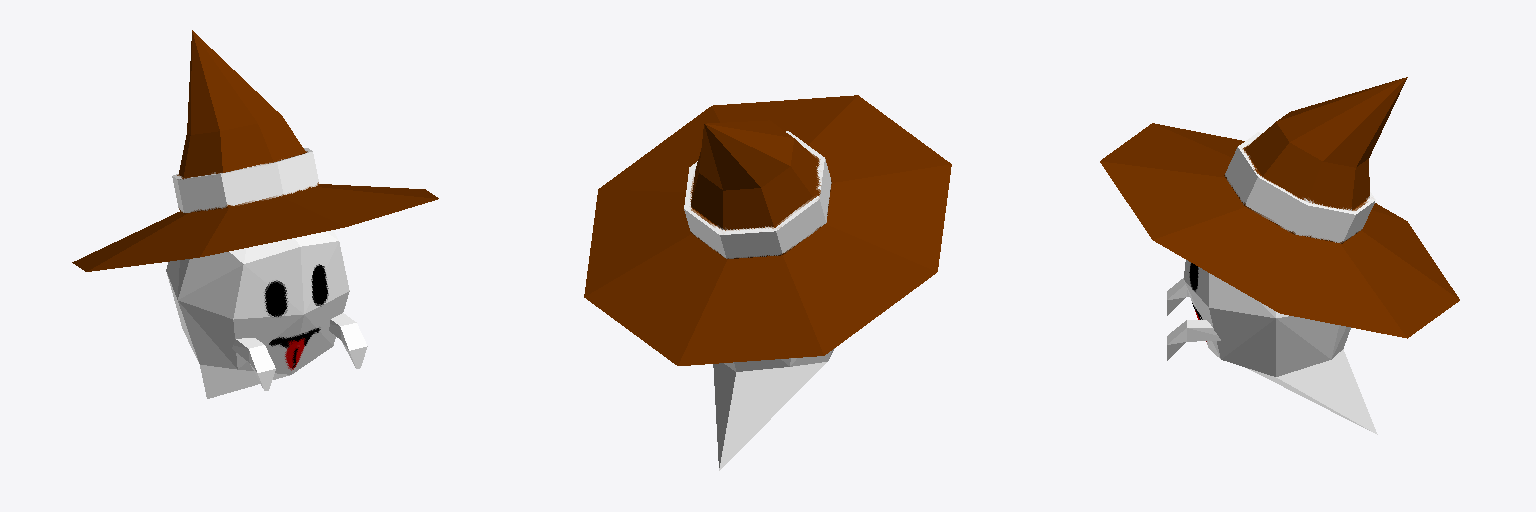
3 renders of one model, left to right at view 1: azimuth 30°, elevation 25°; view 2: azimuth 150°, elevation 25°; view 3: azimuth 270°, elevation 25°, orthographic.
Parts seen in each view (by area): view 1: 円錐.002, 胴体.001, 右手.001, 左手.001; view 2: 円錐.002, 胴体.001; view 3: 円錐.002, 胴体.001, 左手.001.
Part boxes in pixels (x1,y1,x2,y2): 円錐.002: (72, 30, 438, 271); 胴体.001: (166, 230, 349, 398); 右手.001: (232, 338, 275, 390); 左手.001: (329, 313, 367, 368); 円錐.002: (584, 95, 951, 365); 胴体.001: (713, 348, 834, 470); 円錐.002: (1100, 77, 1459, 338); 胴体.001: (1184, 260, 1377, 434); 左手.001: (1167, 320, 1220, 360).
Size of the model in its own units: 1.78 by 1.79 by 1.64.
Materials: 2 (1 with a texture image).